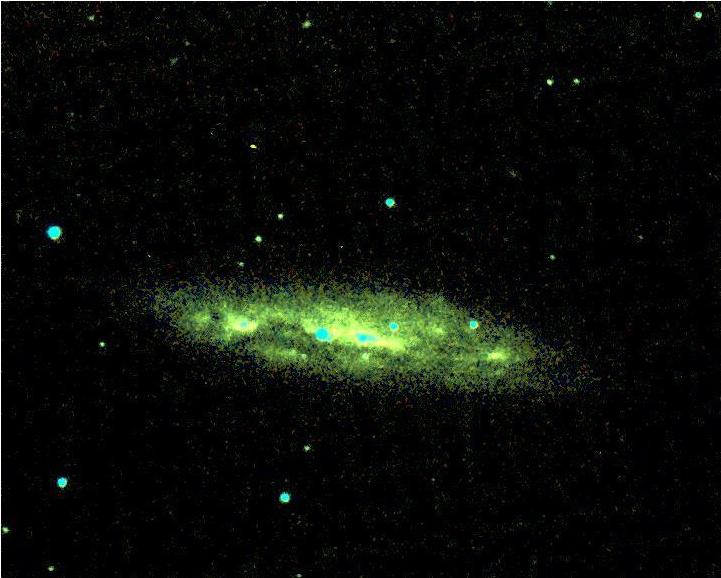star: (238, 131, 268, 161)
